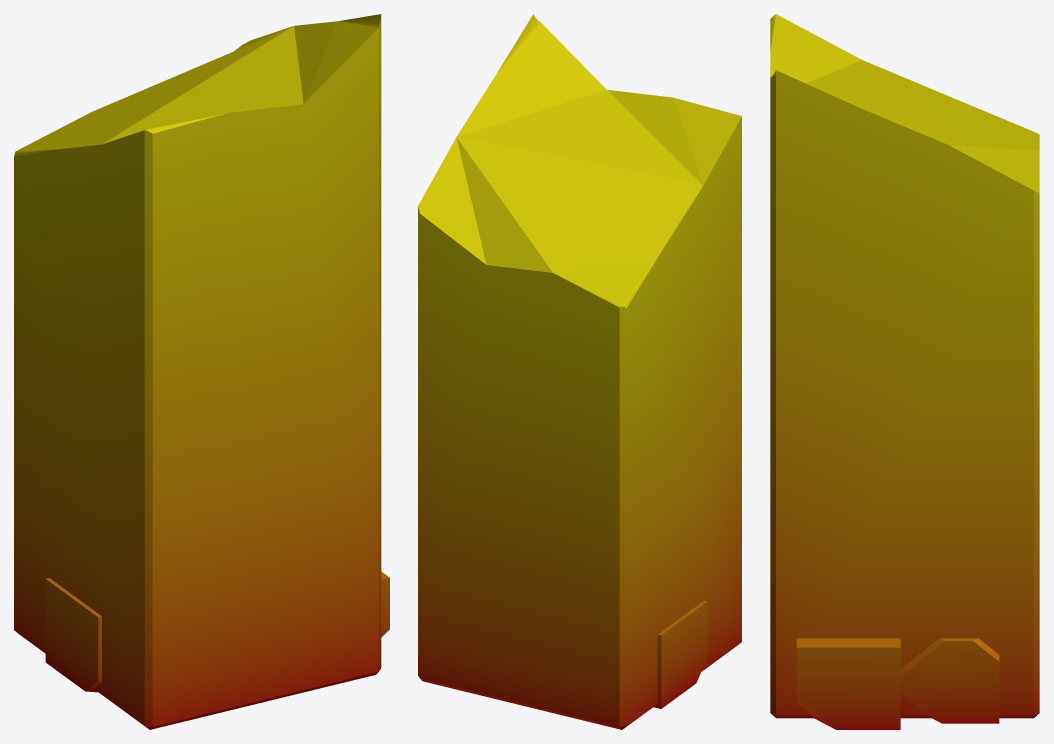
The model's file is aqueduct_pier_broken.glb.
3 renders of one model, left to right at view 1: azimuth 30°, elevation 25°; view 2: azimuth 150°, elevation 25°; view 3: azimuth 270°, elevation 25°, orthographic. The views are drawn at different scales.
Visible parts, largest first — view 1: aqueduct_pier_broken; view 2: aqueduct_pier_broken; view 3: aqueduct_pier_broken.
Boxes of the visible parts, x1,y1,x2,y2 form: aqueduct_pier_broken: (14, 14, 389, 729); aqueduct_pier_broken: (418, 14, 741, 729); aqueduct_pier_broken: (770, 14, 1039, 729).
Size of what is drawn, in the model's own units: 1.54 by 3.73 by 1.4.
